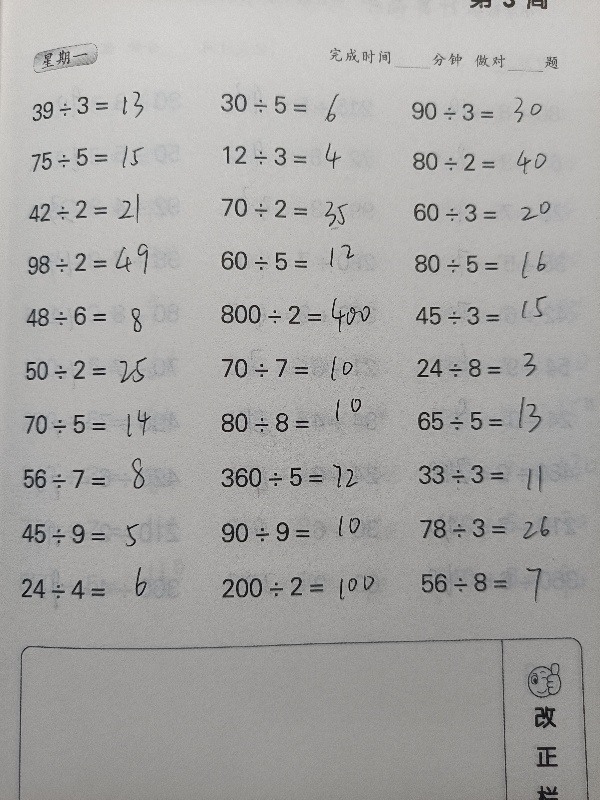equation: (212, 286, 392, 336), (213, 389, 389, 440), (19, 236, 199, 282), (213, 568, 393, 604), (13, 516, 193, 552), (212, 513, 392, 549), (12, 571, 192, 606), (412, 565, 592, 600), (412, 511, 592, 546), (15, 461, 195, 496), (213, 460, 393, 495), (410, 457, 590, 492), (17, 407, 197, 442), (17, 352, 197, 387), (214, 351, 394, 386), (17, 298, 197, 333), (213, 138, 393, 173), (212, 86, 392, 121), (409, 404, 589, 438), (409, 351, 589, 385), (407, 299, 587, 333), (406, 247, 586, 281), (213, 244, 393, 278), (405, 196, 585, 230), (213, 191, 393, 225), (22, 90, 202, 124), (404, 145, 584, 178), (402, 95, 582, 128), (22, 193, 168, 229), (22, 144, 168, 174)
